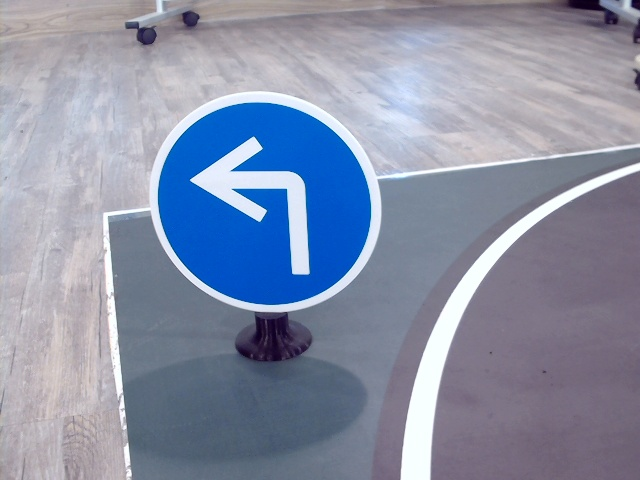turn_left: (195, 130, 323, 273)
